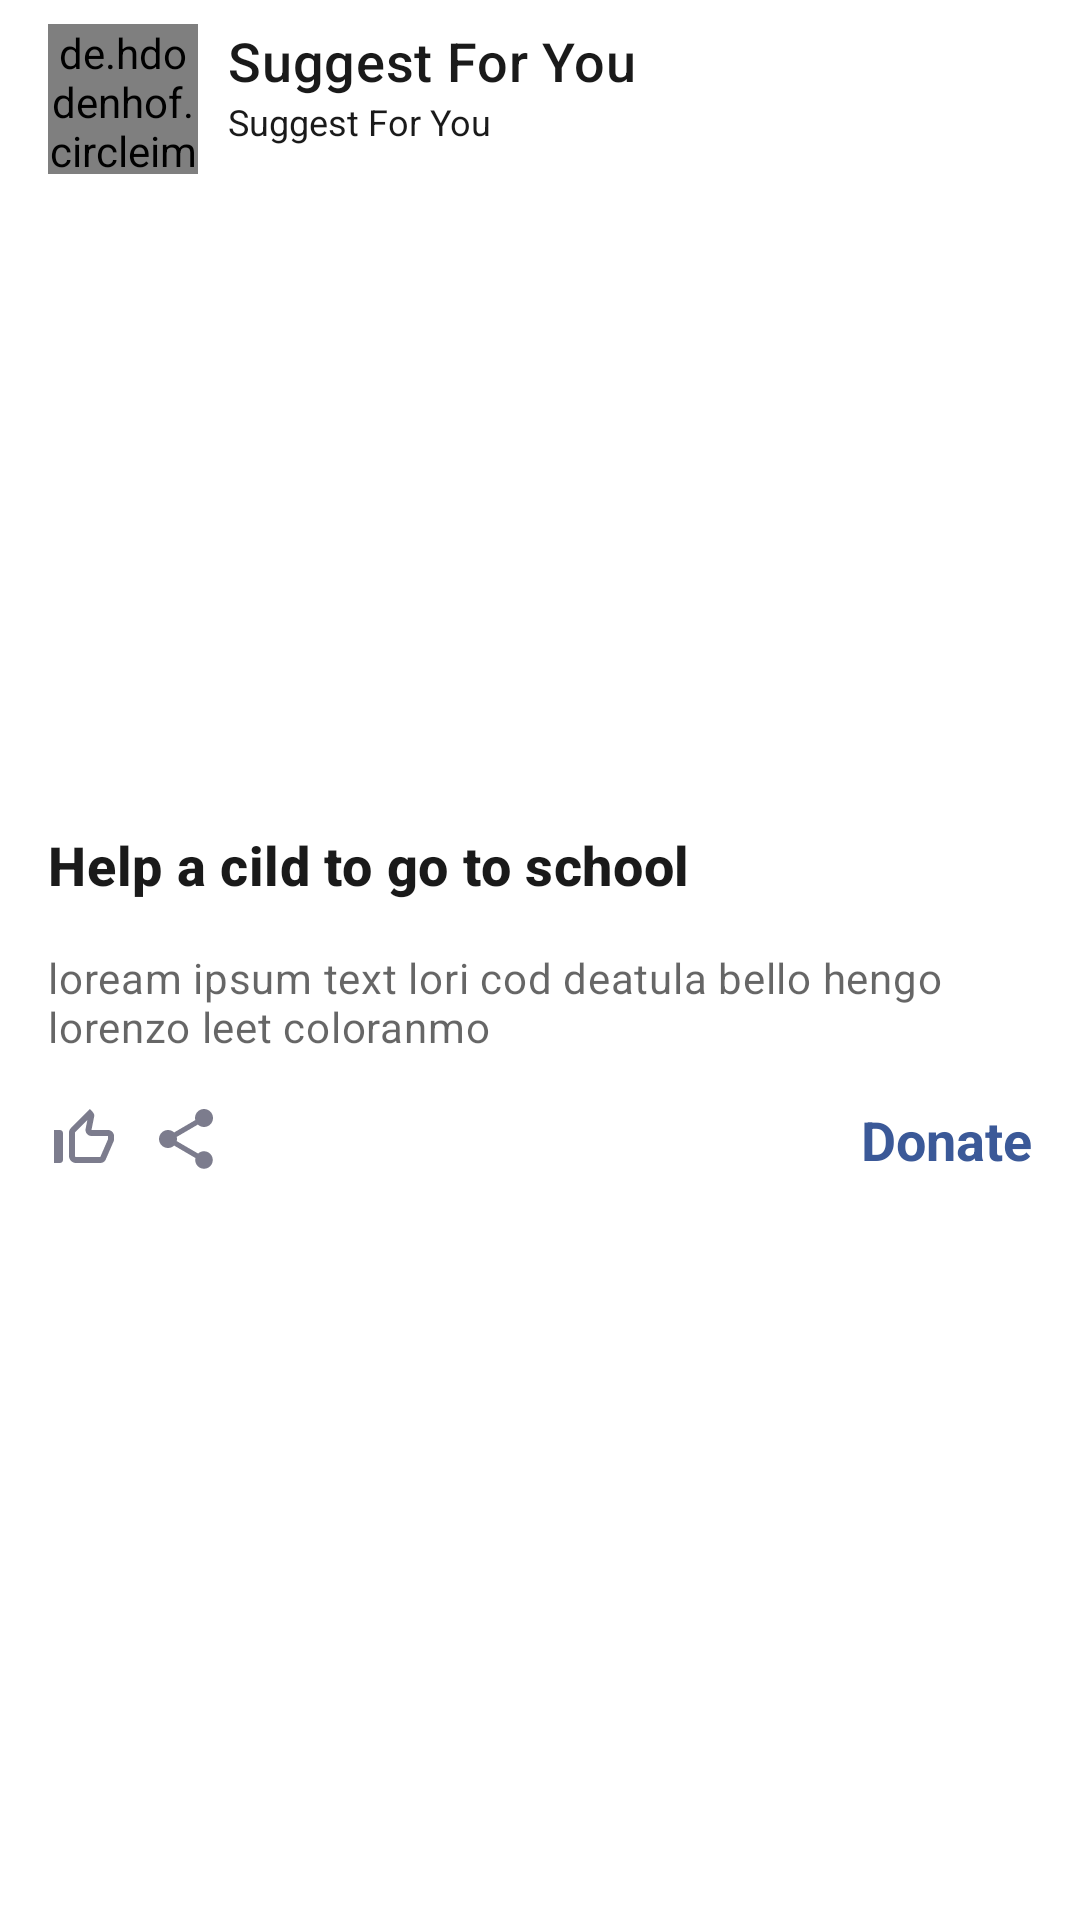

Named icons in this screenshot (1080px x 1920px) and their bounding boxes, (x1, y1, x2, y2):
share: (159, 1109, 213, 1169)
thumb up: (54, 1109, 114, 1163)
